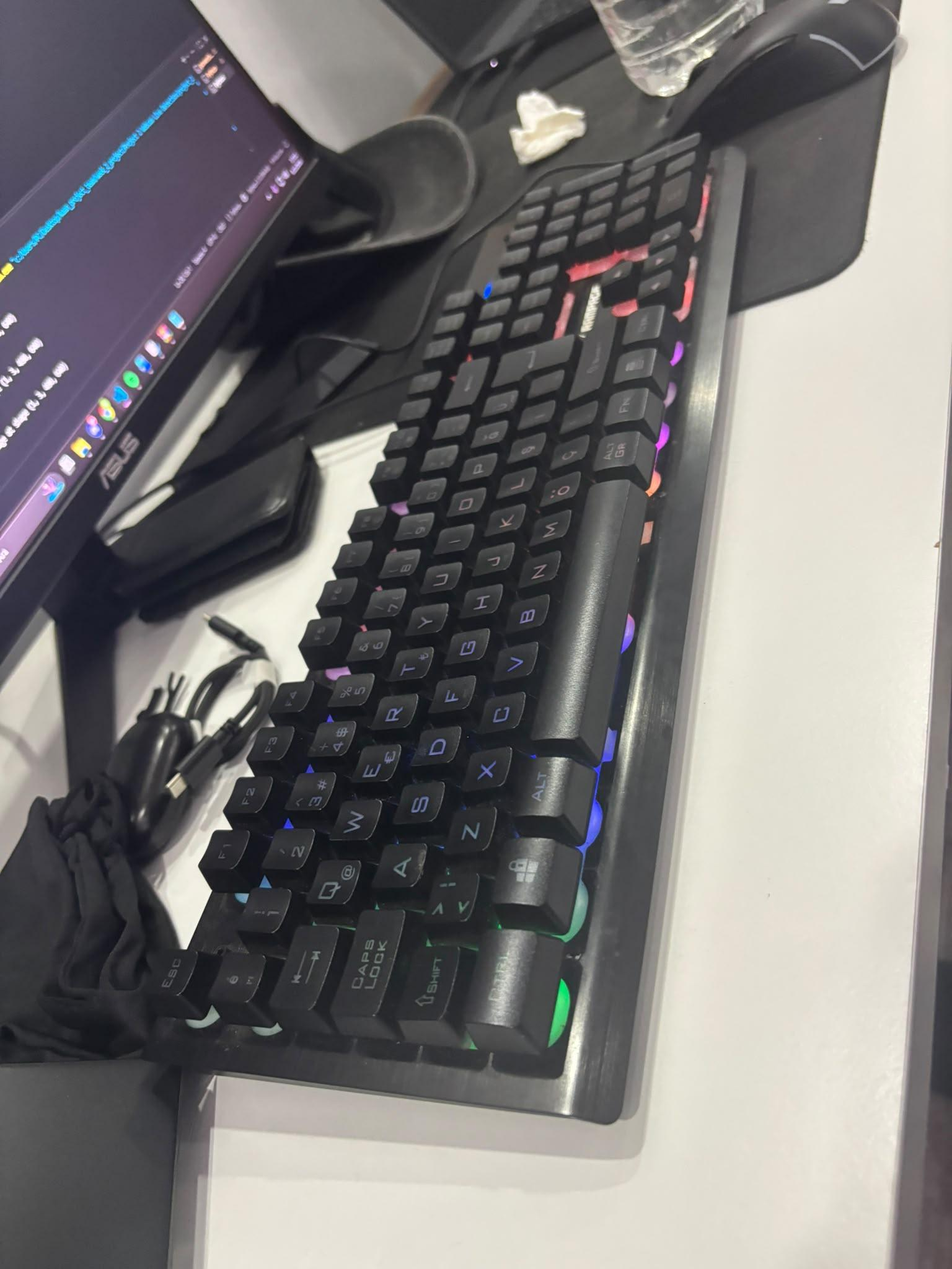cable: (102, 613, 279, 862)
keyboard: (137, 128, 749, 1126)
mouse: (676, 0, 903, 141)
water bottel: (589, 0, 765, 99)
